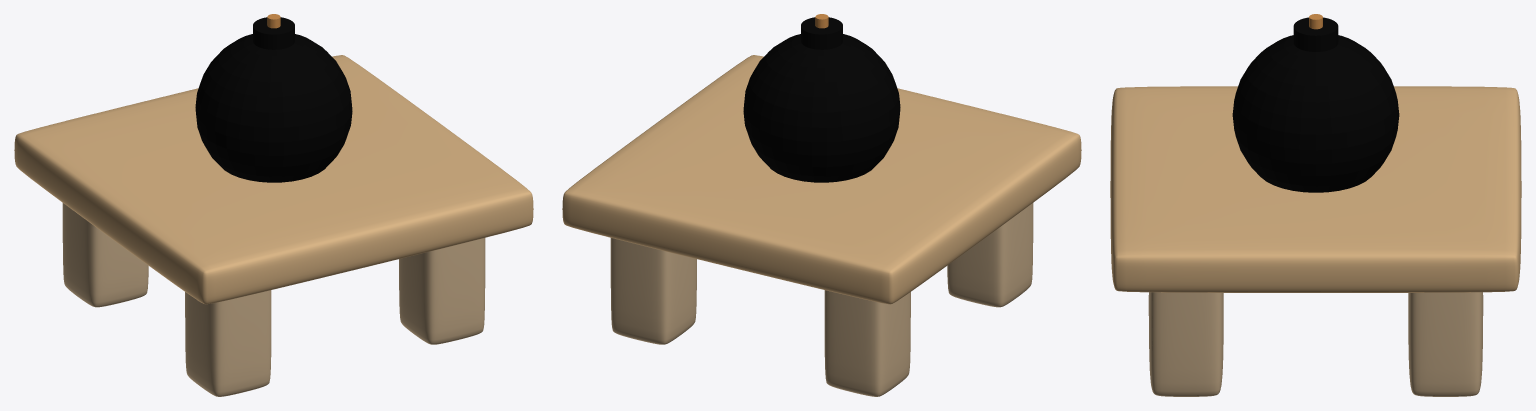
3 renders of one model, left to right at view 1: azimuth 30°, elevation 25°; view 2: azimuth 150°, elevation 25°; view 3: azimuth 270°, elevation 25°, orthographic. The views are drawn at different scales.
Parts seen in each view (by area): view 1: Prostokąt, Prostokąt.001, Sphere, Cylinder; view 2: Prostokąt, Prostokąt.001, Sphere, Cylinder; view 3: Prostokąt, Sphere, Prostokąt.001, Cylinder.
Boxes of the visible parts, x1,y1,x2,y2 form: Prostokąt: (14,55,533,304); Prostokąt.001: (62,203,485,396); Sphere: (195,34,352,182); Cylinder: (253,17,294,49); Prostokąt: (562,55,1081,304); Prostokąt.001: (610,203,1033,396); Sphere: (743,34,900,182); Cylinder: (801,17,842,49); Prostokąt: (1110,86,1521,292); Sphere: (1232,35,1399,192); Prostokąt.001: (1148,292,1483,396); Cylinder: (1293,17,1338,51).
Bounding box in the file's own units: 2 × 1.68 × 2.
